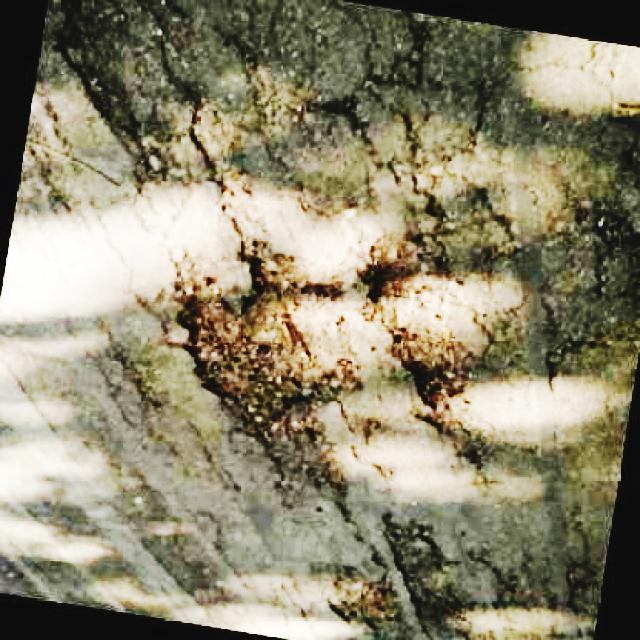pothole: (168, 237, 352, 500), (365, 215, 472, 443), (322, 515, 452, 640)
